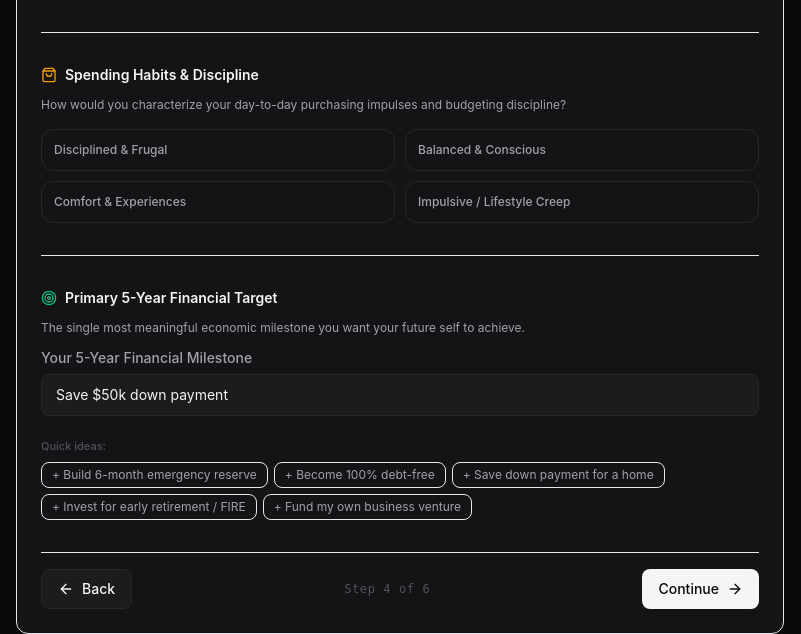
Scenario: OnboardingWizard Component › advances to step 5 when step 4 financial data is provided
The width and height of the screenshot is (801, 634).
(page scrolled)
Click the button with aria-label "continue to next step": click(701, 589) top-left (642, 569), bottom-right (759, 609)
(page scrolled)
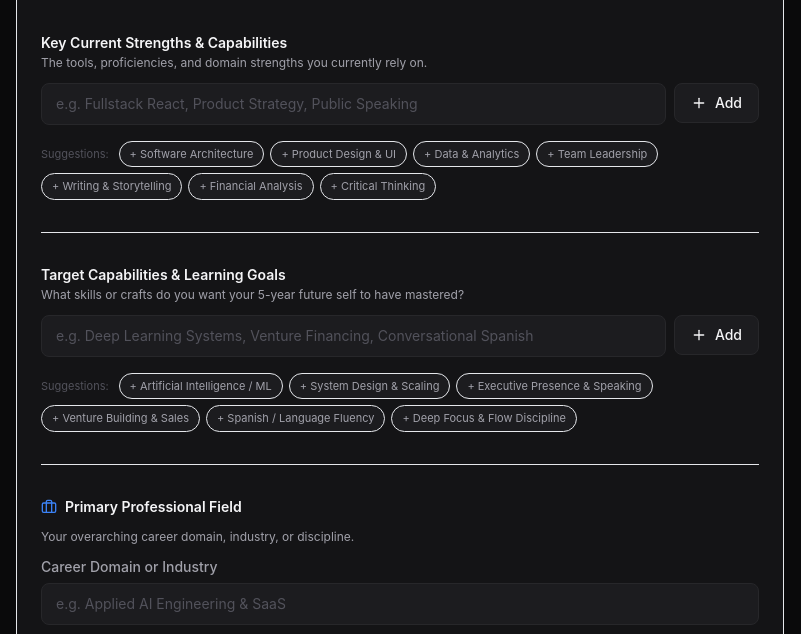
Result: the text "Key Current Strengths & Capabilities" is shown at top-left (41, 34), bottom-right (287, 51)
Result: the text "Target Capabilities & Learning Goals" is shown at top-left (41, 266), bottom-right (286, 283)
